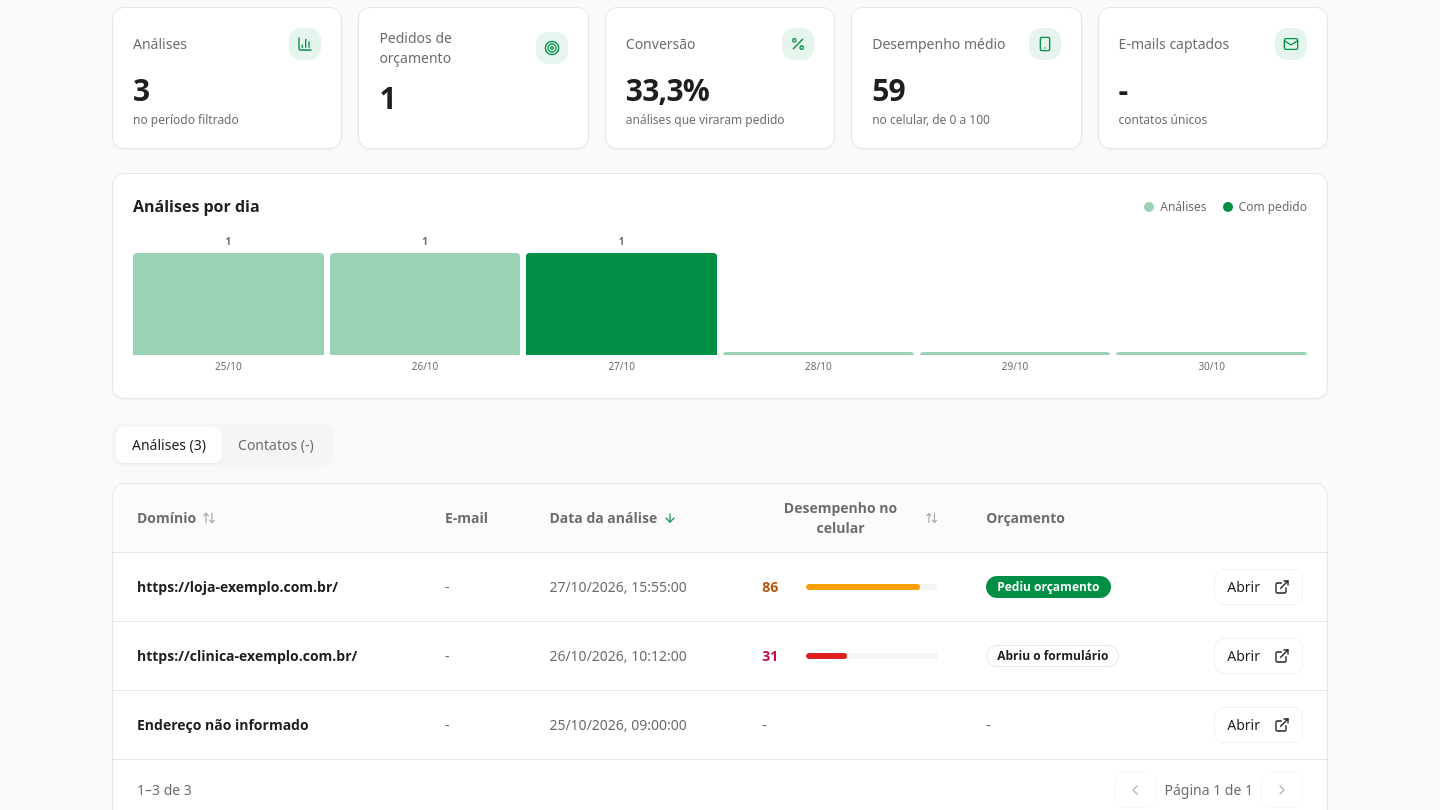
Test: Agency admin area › still lists the analyses when the e-mails cannot be loaded
This screenshot has width=1440, height=810.
(page scrolled)
Expected: the text "https://loja-exemplo.com.br/" is shown, top-left (113, 552), bottom-right (421, 622)
Press the mouse on the tab "Contatos (-)" at x=276, y=445, box top-left (222, 427), bottom-right (330, 463)
(page scrolled)
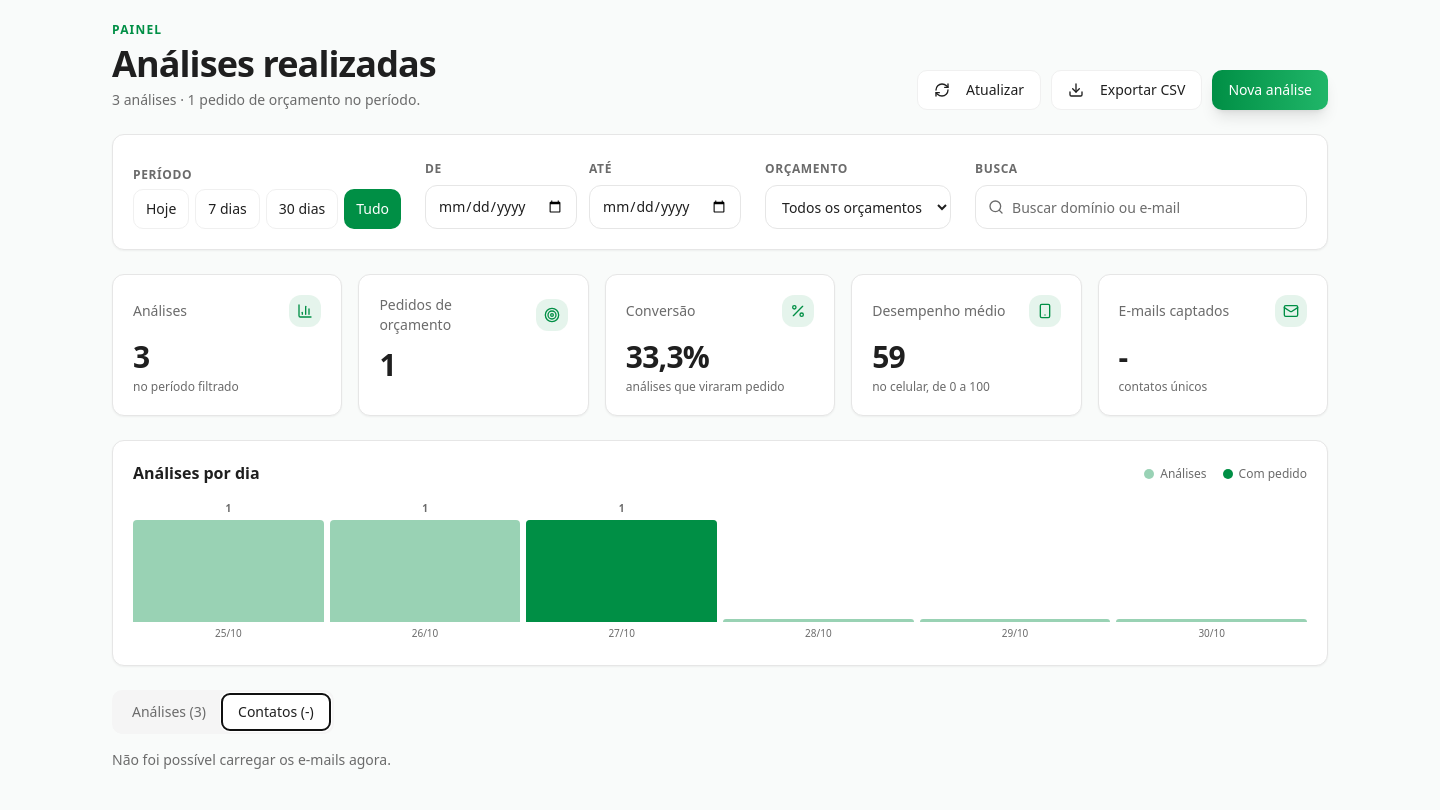
Expected: the text "Não foi possível carregar os e-mails agora." is shown, top-left (112, 750), bottom-right (391, 769)
